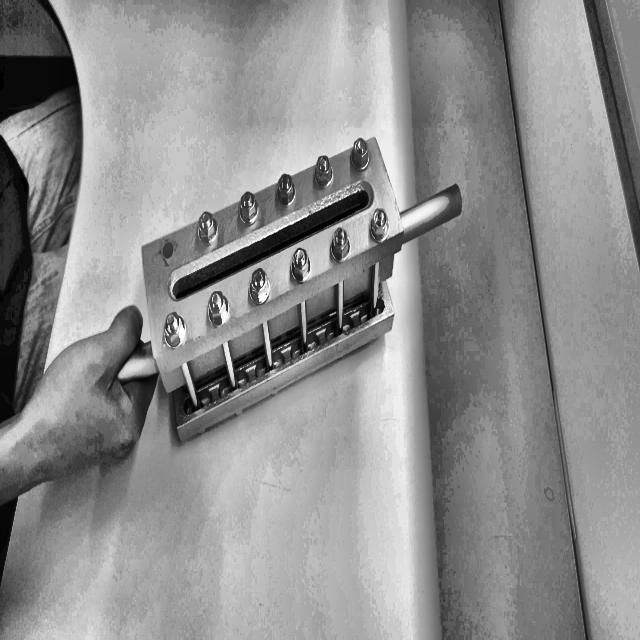ShuiWeiQi_11: (130, 136, 468, 400)
